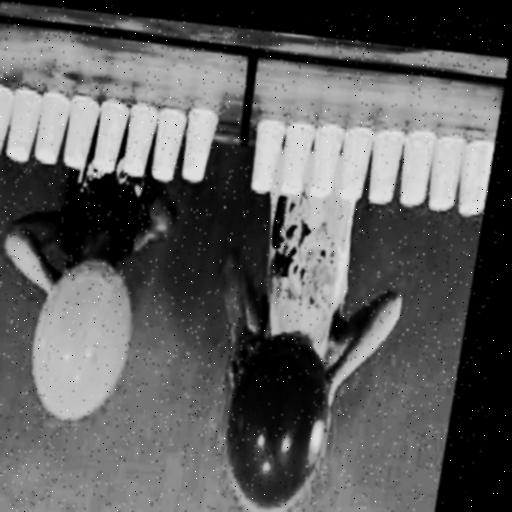balloon: (218, 316, 349, 511), (29, 250, 150, 425)
